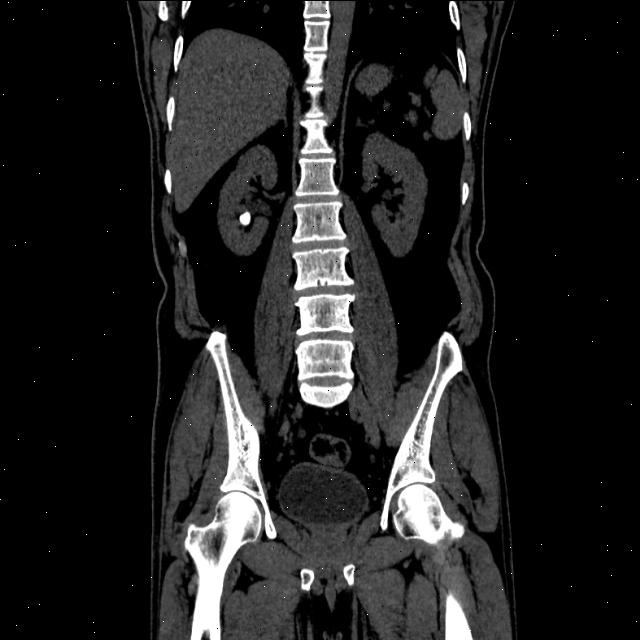kidneystone: (239, 210, 251, 227)
